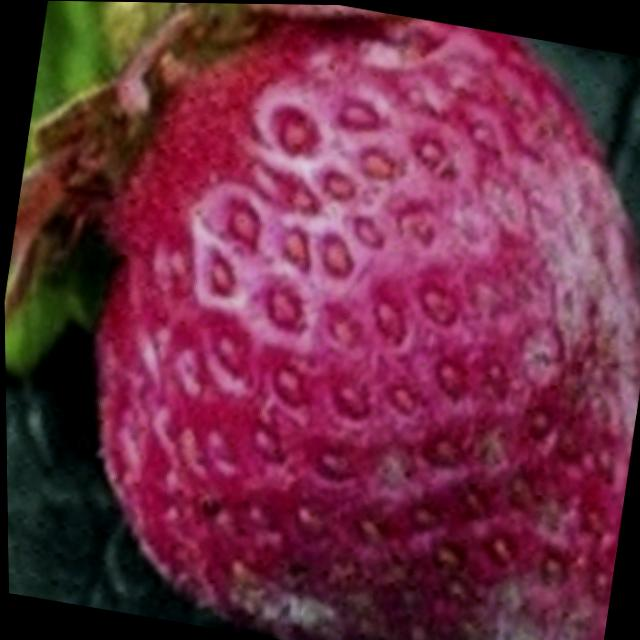Powdery Mildew Fruit: (72, 2, 640, 640)
